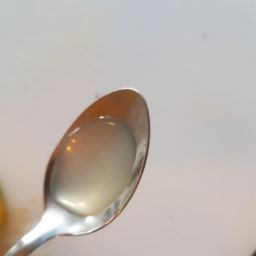Lime juice: (20, 113, 159, 227), (62, 114, 137, 220)
